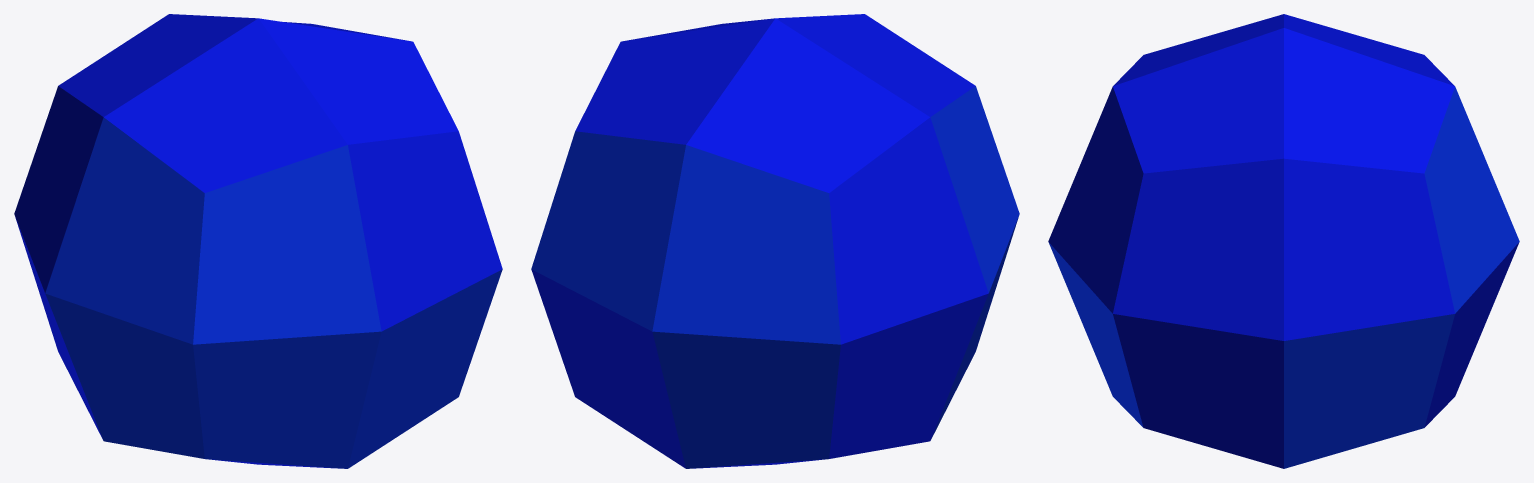
Rendered from obstacle.glb.
The picture shows the model from 3 angles, left to right: view 1: azimuth 30°, elevation 25°; view 2: azimuth 150°, elevation 25°; view 3: azimuth 270°, elevation 25°; orthographic projection. The views are drawn at different scales.
Parts seen in each view (by area): view 1: Cube; view 2: Cube; view 3: Cube.
Boxes of the visible parts, x1,y1,x2,y2 form: Cube: (14,14,502,468); Cube: (531,14,1019,468); Cube: (1048,14,1519,468).
Bounding box in the file's own units: 0.3075 × 0.3075 × 0.3075.
